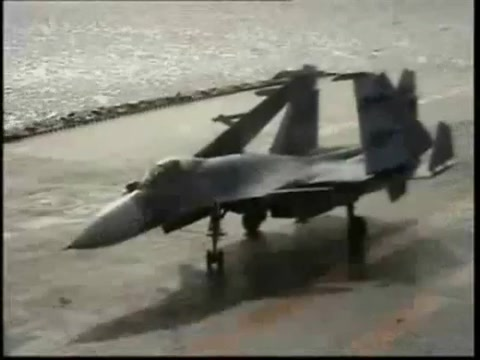aeroplane: (61, 65, 458, 286)
